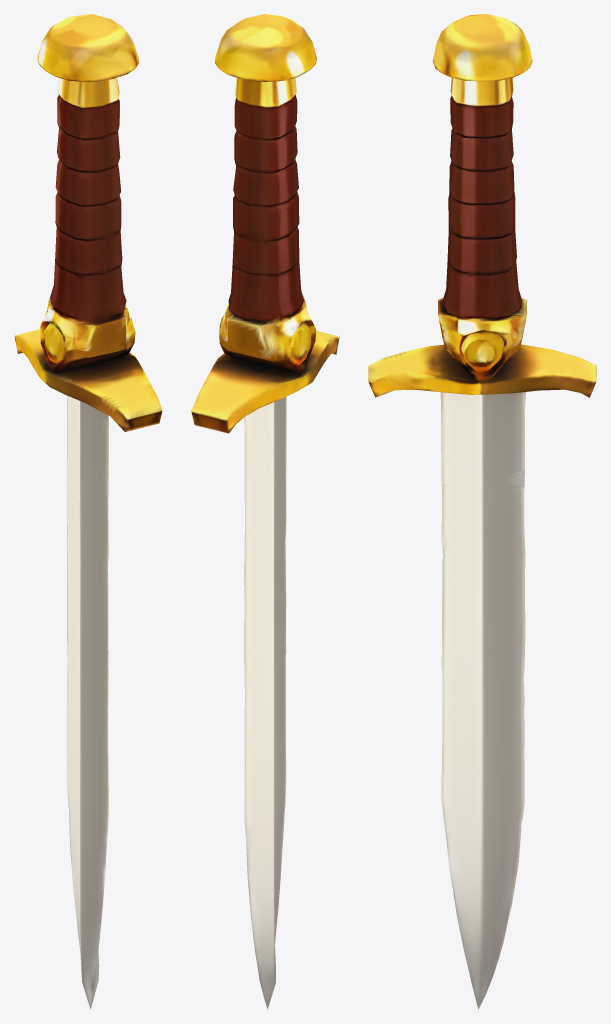
Rendered from weapon_sword_new.fbx.
3 renders of one model, left to right at view 1: azimuth 30°, elevation 25°; view 2: azimuth 150°, elevation 25°; view 3: azimuth 270°, elevation 25°, orthographic.
Parts seen in each view (by area): view 1: model; view 2: model; view 3: model.
Part boxes in pixels (bbox=[...]): model: bbox=[14, 14, 162, 1009]; model: bbox=[191, 14, 339, 1009]; model: bbox=[368, 14, 596, 1009].
Size of the model in its own units: 16.2 by 177 by 37.
